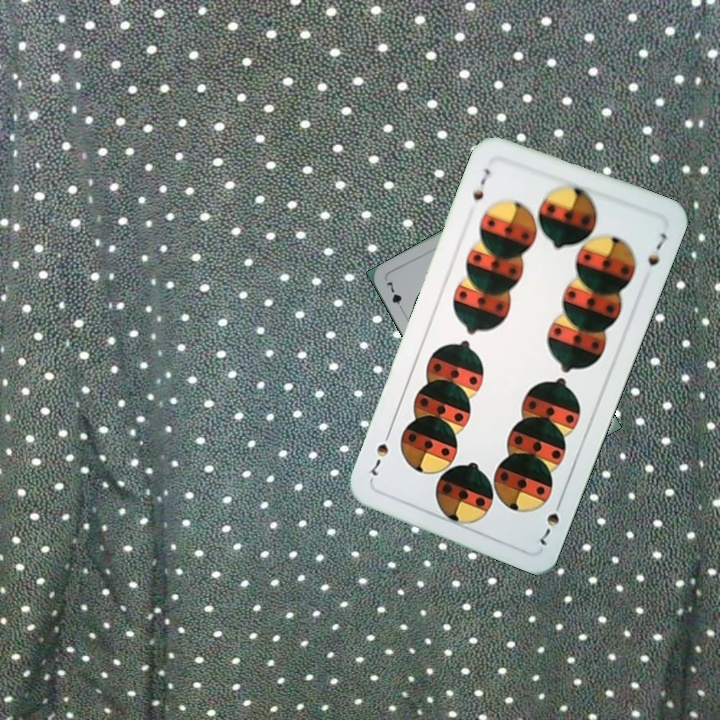G7: (382, 278, 407, 315)
S7: (535, 493, 566, 549), (468, 164, 493, 203)
